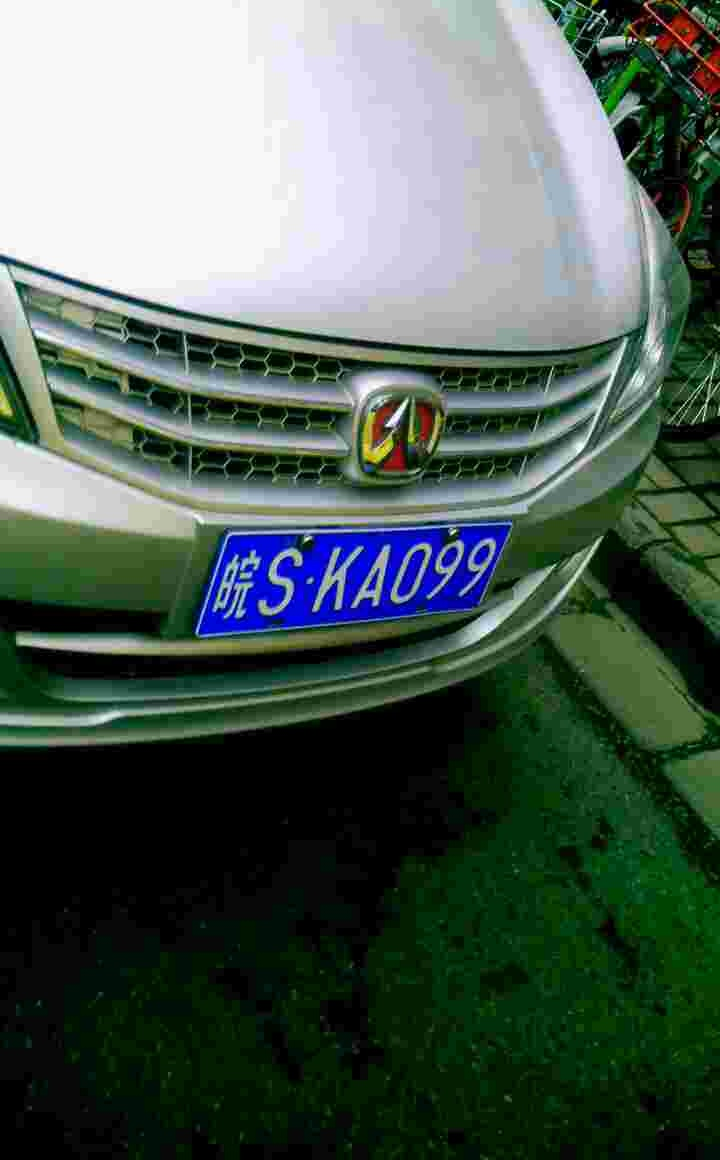license_plate: (193, 517, 515, 637)
